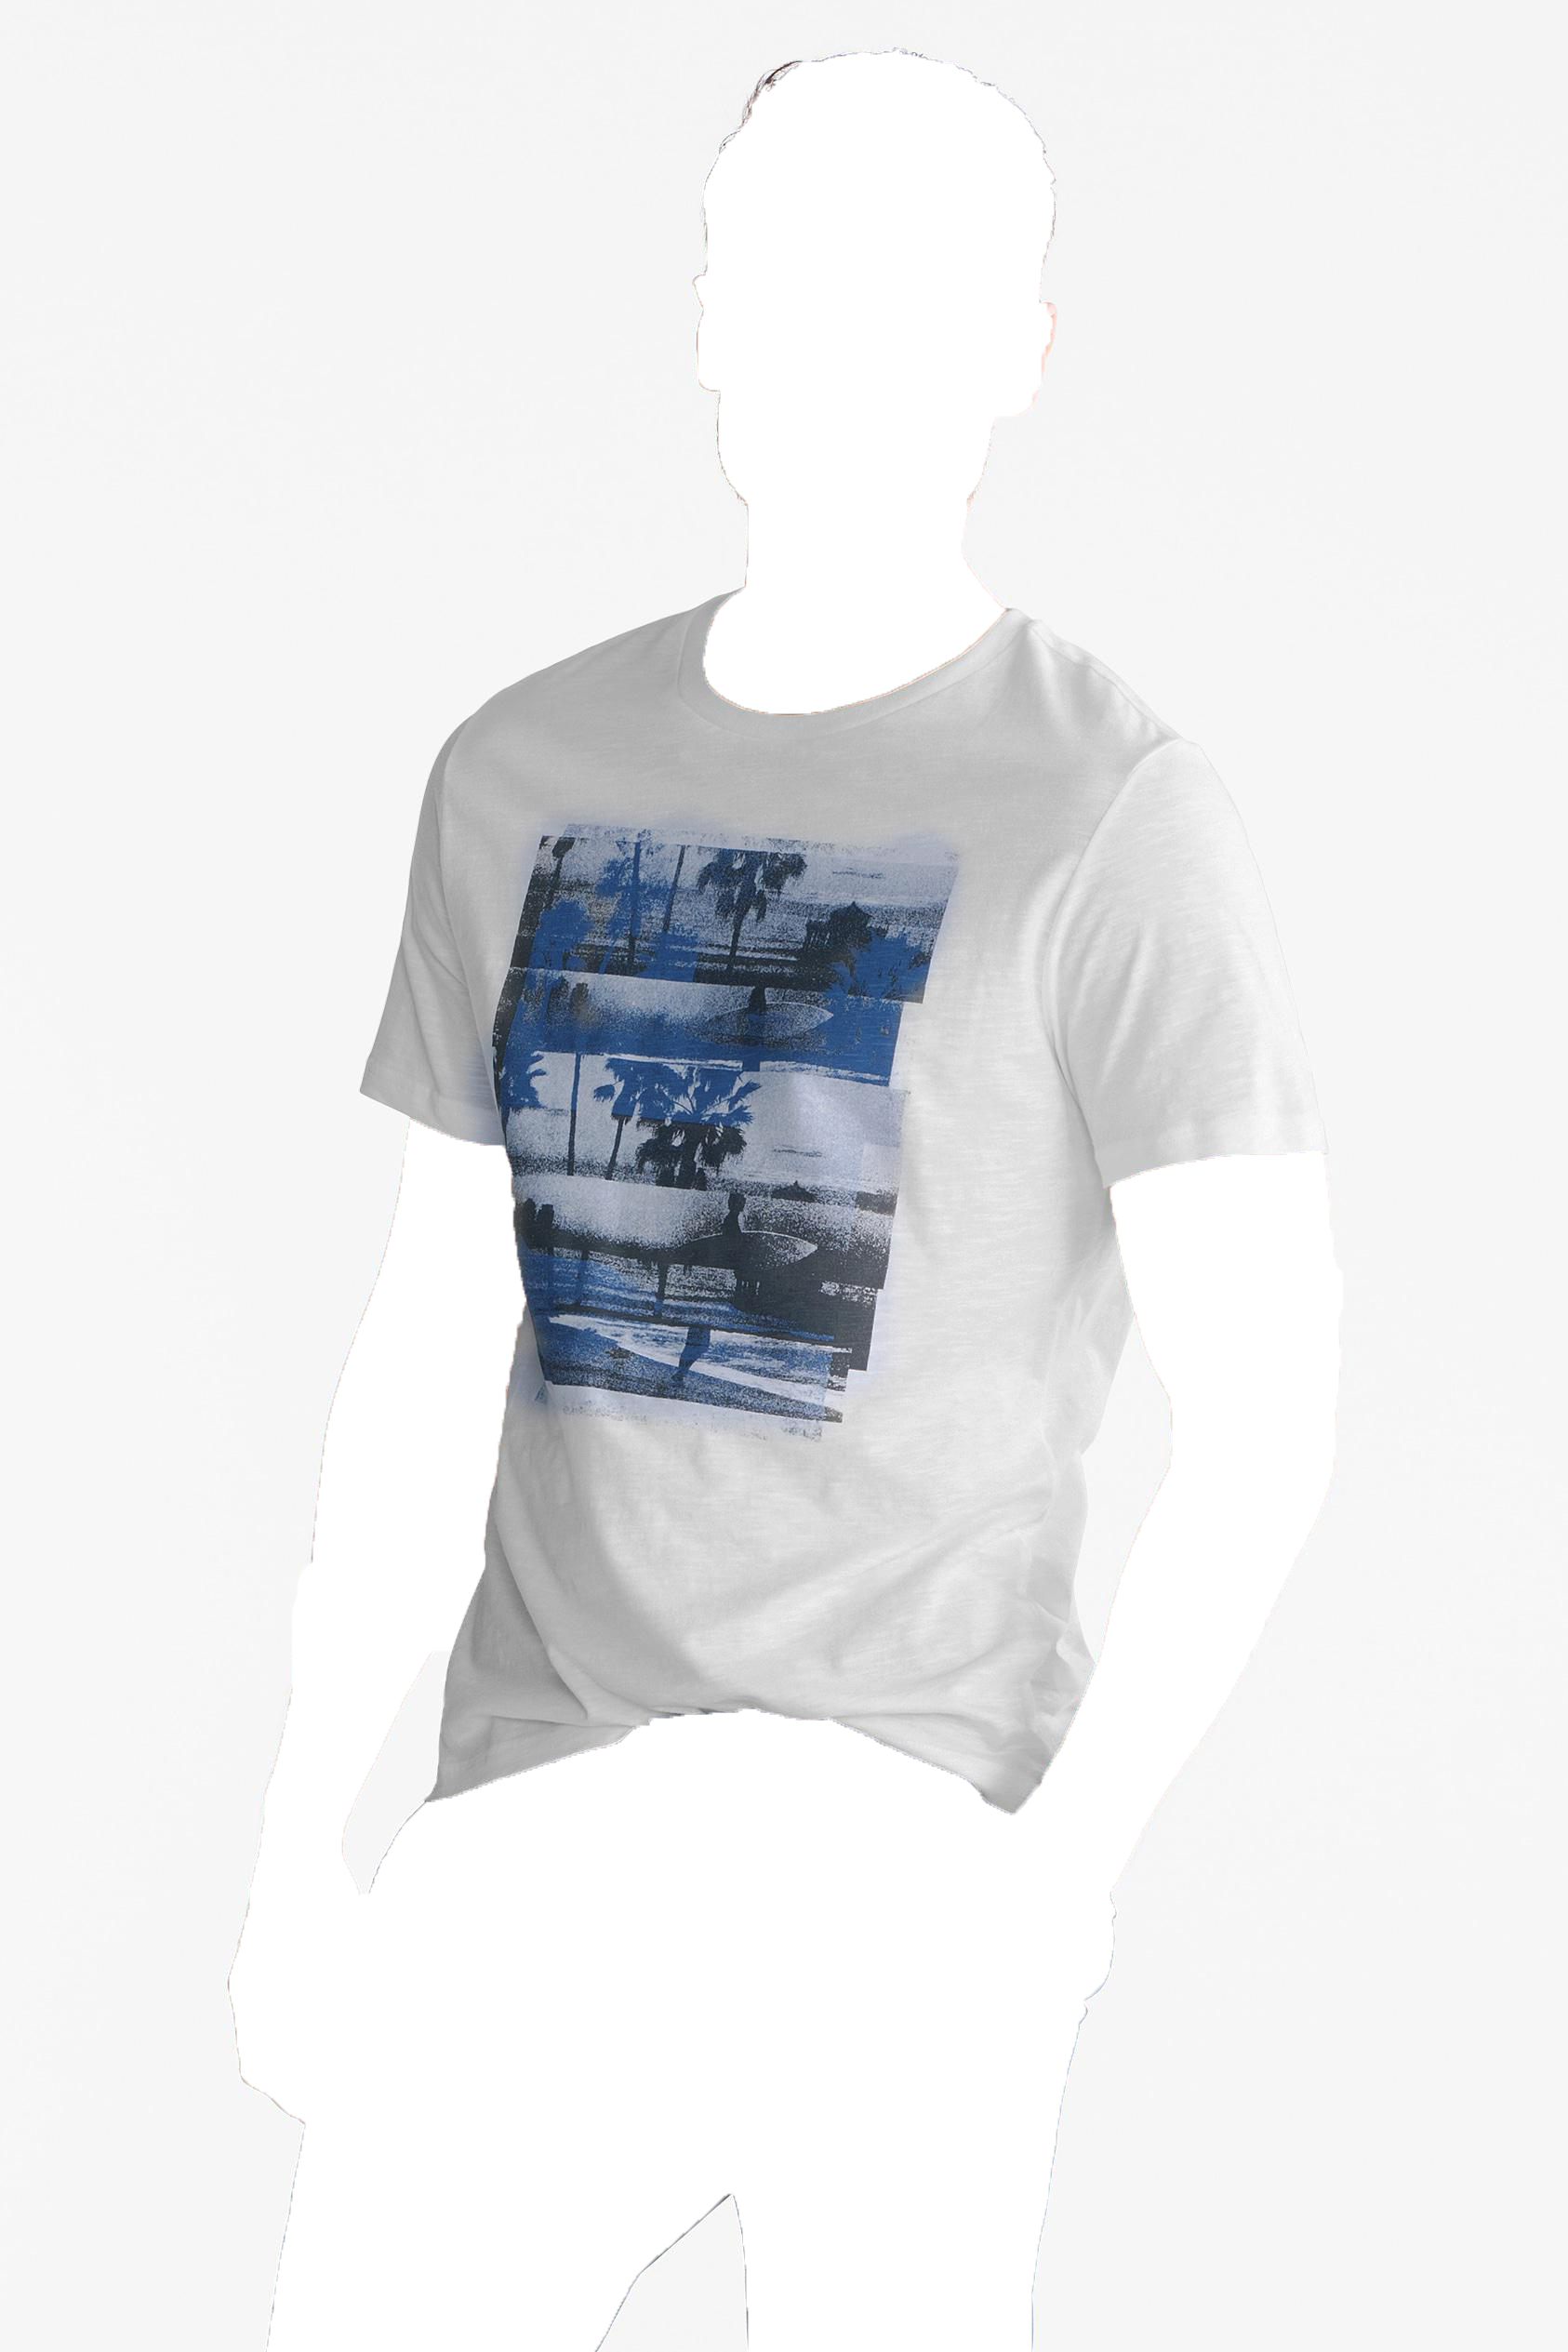teeshirt: (343, 579, 1325, 1830)
